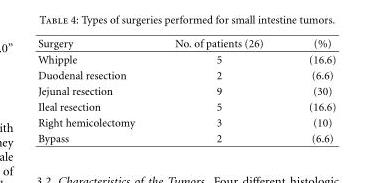table: (37, 37, 335, 144)
table column: (154, 37, 285, 144), (37, 37, 154, 144), (285, 37, 335, 144)
table column header: (37, 37, 335, 51)
table row: (37, 51, 335, 67), (37, 82, 335, 98), (37, 98, 335, 114), (37, 114, 335, 130), (37, 67, 335, 82), (37, 37, 335, 51), (37, 130, 335, 144)
